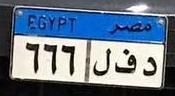6: (42, 44, 60, 76), (25, 41, 41, 76), (61, 44, 78, 76)
daal: (141, 55, 158, 78)
faa: (114, 49, 137, 75)
laam: (92, 48, 112, 77)
